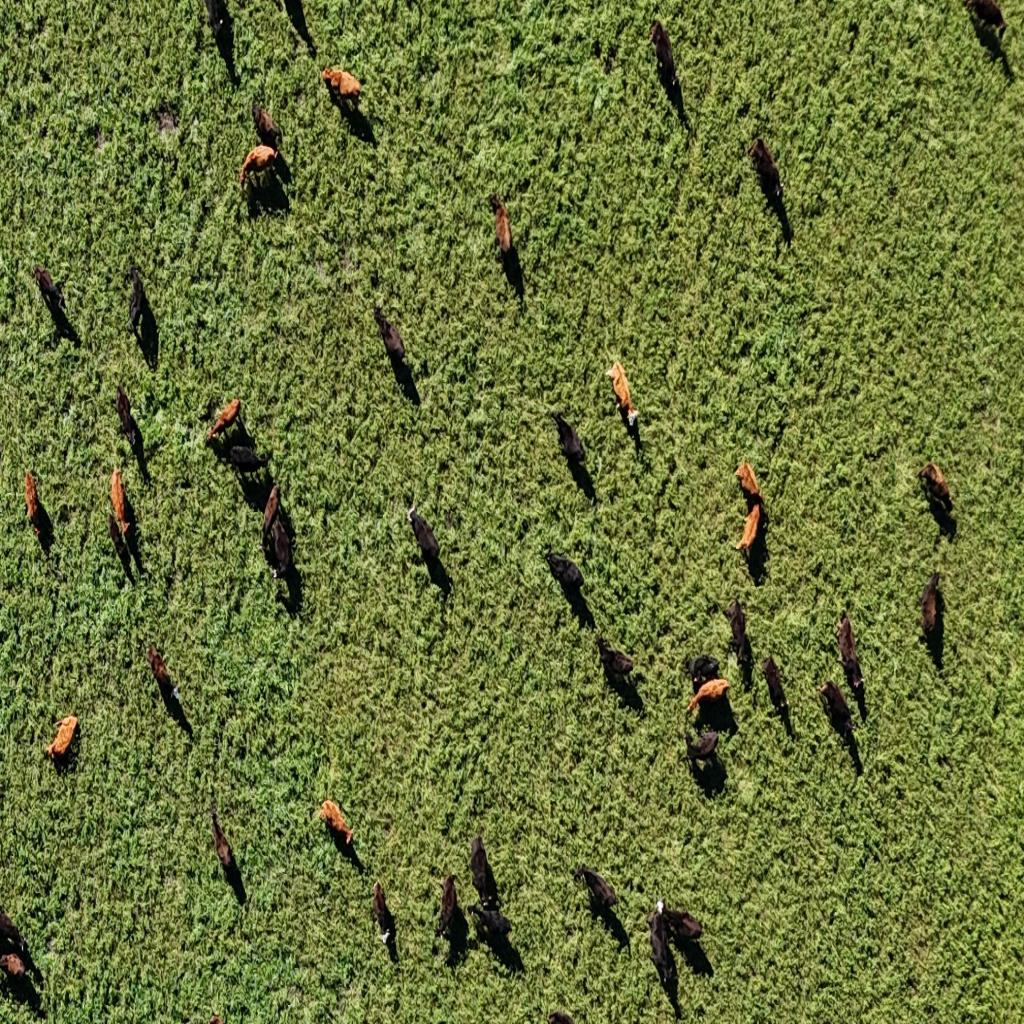cow: (646, 14, 690, 137), (749, 138, 790, 240), (374, 302, 414, 406), (552, 415, 593, 502), (125, 263, 156, 362), (646, 902, 678, 993), (41, 708, 83, 776), (479, 912, 525, 972), (201, 2, 234, 82), (437, 873, 466, 962), (545, 548, 588, 608), (573, 864, 619, 920), (232, 461, 277, 518), (836, 610, 866, 694), (918, 572, 945, 663), (817, 679, 855, 742), (335, 92, 376, 149), (146, 643, 181, 709), (606, 360, 639, 430), (651, 900, 701, 945), (688, 738, 728, 794), (468, 834, 498, 907), (320, 65, 361, 115), (759, 652, 790, 718), (915, 460, 954, 512), (238, 145, 280, 193), (740, 516, 770, 582), (596, 636, 634, 688), (407, 507, 441, 565), (210, 801, 236, 876), (724, 598, 751, 670), (33, 265, 68, 320), (278, 2, 316, 52), (266, 516, 294, 583), (468, 900, 512, 942), (113, 382, 139, 453), (23, 469, 48, 542), (492, 192, 516, 268), (216, 850, 248, 906), (370, 880, 396, 948), (0, 906, 29, 966), (208, 398, 244, 446), (320, 799, 354, 848), (276, 554, 304, 612), (110, 467, 132, 539), (964, 0, 1005, 38), (689, 678, 729, 715), (129, 426, 152, 488), (207, 432, 240, 474), (684, 726, 719, 765), (108, 510, 130, 572), (738, 456, 764, 508), (687, 655, 719, 693), (230, 445, 268, 476), (253, 108, 280, 150), (262, 485, 280, 546), (154, 102, 178, 141)
